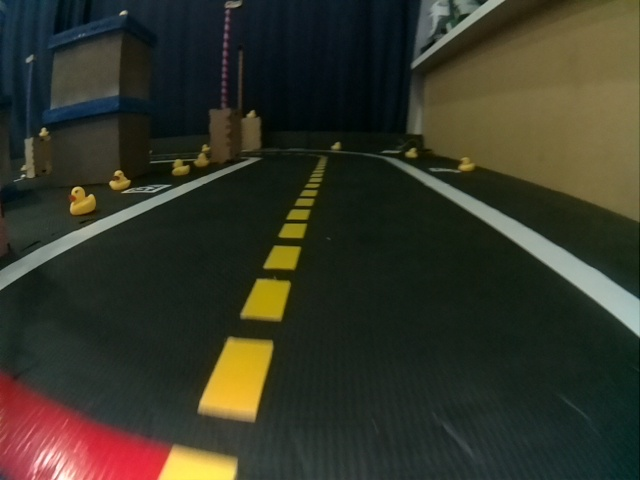Duckie: (69, 186, 96, 214), (109, 171, 130, 190), (172, 159, 188, 177), (458, 157, 473, 170), (195, 154, 210, 166), (405, 148, 415, 158), (39, 127, 49, 137), (331, 142, 341, 151), (246, 109, 256, 117), (201, 144, 210, 151)
QR code: (124, 184, 169, 193)
